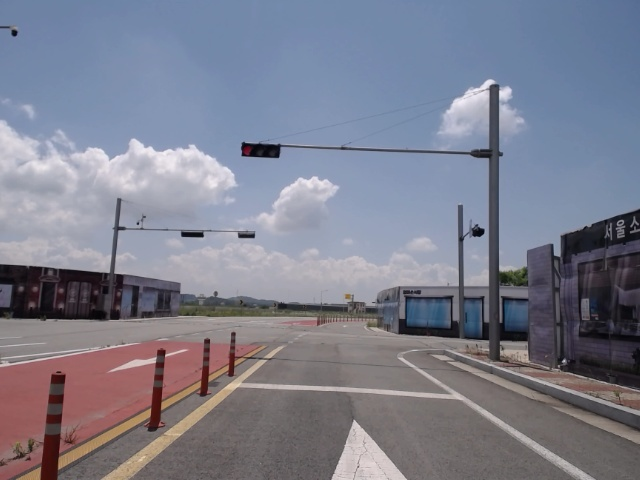red_3: (241, 142, 280, 157)
